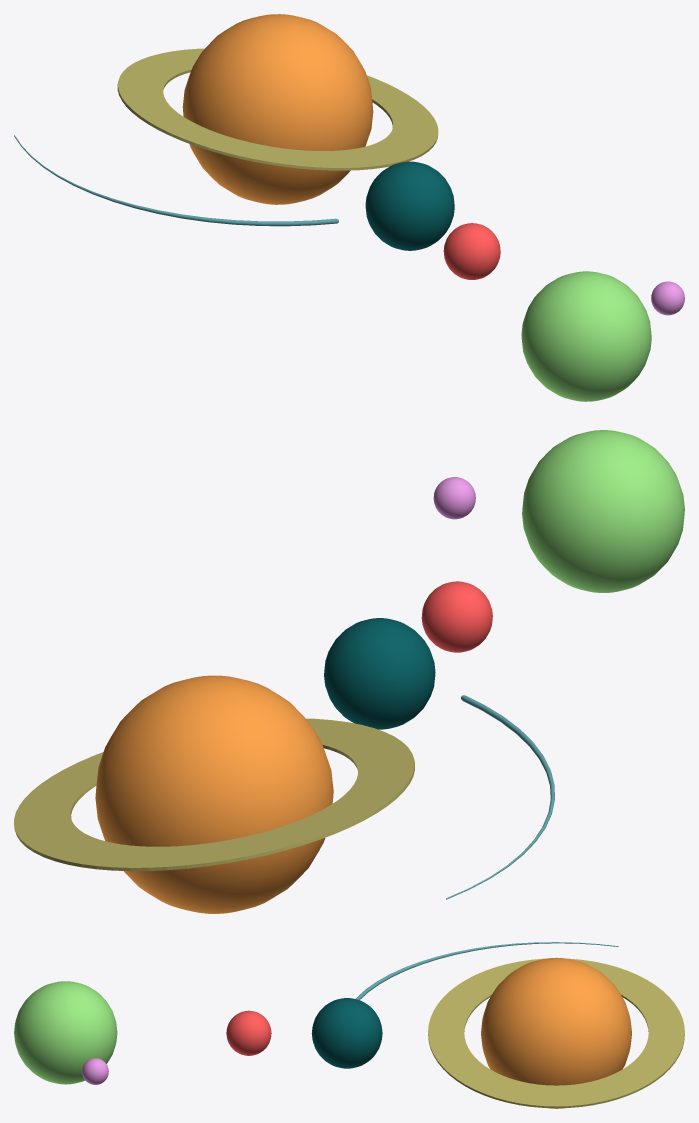
Rendered from Planets.gltf.
3 renders of one model, top to bottom at view 1: azimuth 30°, elevation 25°; view 2: azimuth 150°, elevation 25°; view 3: azimuth 270°, elevation 25°, orthographic. The views are drawn at different scales.
Parts seen in each view (by area): view 1: Sphere, Sphere.003, Circle, Sphere.001, Sphere.002, Circle.001, Sphere.004; view 2: Sphere, Sphere.003, Circle, Sphere.001, Sphere.002, Sphere.004, Circle.001; view 3: Sphere, Circle, Sphere.003, Sphere.001, Sphere.002, Circle.001, Sphere.004.
Boxes of the visible parts, box(x1,y1,x2,y2) form: Sphere: box(182, 14, 373, 204); Sphere.003: box(521, 271, 651, 401); Circle: box(117, 48, 438, 170); Sphere.001: box(365, 161, 454, 250); Sphere.002: box(443, 223, 500, 279); Circle.001: box(14, 135, 338, 226); Sphere.004: box(651, 281, 684, 315); Sphere: box(95, 675, 333, 913); Sphere.003: box(522, 430, 684, 592); Circle: box(14, 718, 414, 871); Sphere.001: box(324, 618, 435, 729); Sphere.002: box(421, 581, 492, 652); Sphere.004: box(433, 477, 475, 519); Circle.001: box(446, 695, 554, 899); Sphere: box(481, 957, 631, 1108); Circle: box(428, 958, 684, 1108); Sphere.003: box(14, 981, 117, 1084); Sphere.001: box(311, 998, 382, 1068); Sphere.002: box(226, 1010, 271, 1055); Circle.001: box(356, 942, 618, 999); Sphere.004: box(82, 1058, 108, 1084).
Size of the model in its own units: 4.52 by 2 by 8.87.
